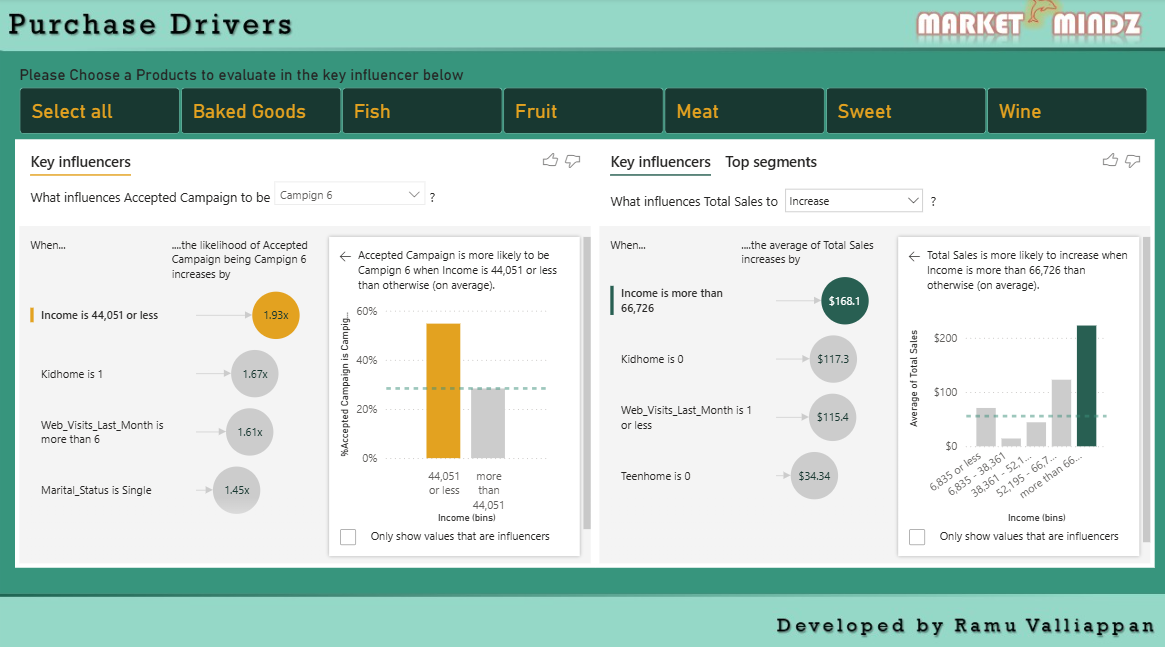

Layout of this report page (visuals, bound fields, positions):
{"tool":"powerbi","page":{"name":"Purchase Drivers","canvas":[1280,720],"ordinal":2},"visuals":[{"type":"keyDriversVisual","fields":{"Target":["campaign.Campaign"],"ExplainBy":["marketmindz_research_data.Age","marketmindz_research_data. Income ","marketmindz_research_data.Education","marketmindz_research_data.Country","marketmindz_research_data.Kidhome","marketmindz_research_data.Marital_Status","marketmindz_research_data.Teenhome","marketmindz_research_data.Web_Visits_Last_Month"]},"box":[16.5,155.1,636.7,470.7],"z":0},{"type":"keyDriversVisual","fields":{"ExplainBy":["marketmindz_research_data.Age","marketmindz_research_data. Income ","marketmindz_research_data.Education","marketmindz_research_data.Country","marketmindz_research_data.Kidhome","marketmindz_research_data.Marital_Status","marketmindz_research_data.Teenhome","marketmindz_research_data.Web_Visits_Last_Month"],"Target":["products.Total Sales"]},"box":[653.2,155.1,614.8,470.7],"z":1000},{"type":"advancedSlicerVisual","title":"Please Choose a Products to evaluate in the key influencer below","fields":{"Values":["products.Products"]},"box":[16.5,74.1,1251.5,81],"z":2000}]}

Visuals, with their boxes in screenshot pixels (x1, y1, x2, y2), scaled from the page's 1280x720 canvas onto the 1165x647 screenshot:
keyDriversVisual - campaign.Campaign x marketmindz_research_data.Age: {"left": 15, "top": 139, "right": 595, "bottom": 562}
keyDriversVisual - marketmindz_research_data.Age x marketmindz_research_data. Income : {"left": 595, "top": 139, "right": 1154, "bottom": 562}
"Please Choose a Products to evaluate in the key influencer below" advancedSlicerVisual: {"left": 15, "top": 67, "right": 1154, "bottom": 139}
